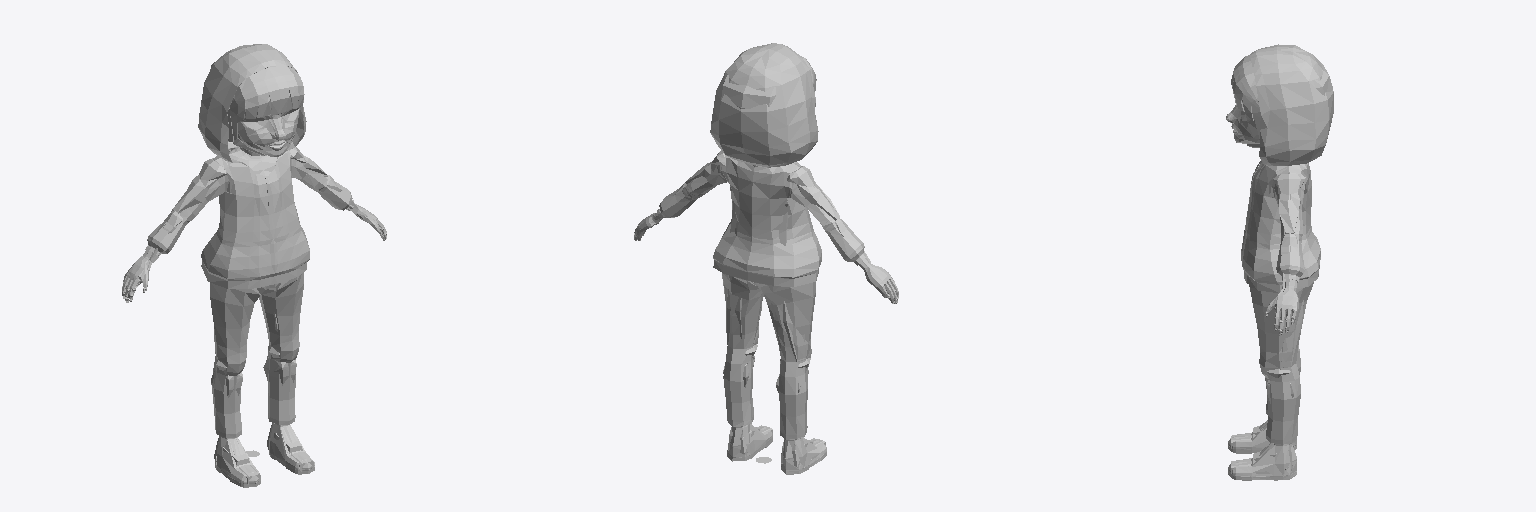
Rendered from temp_char.obj.
3 views of the same model, side by side, from view 1: azimuth 30°, elevation 25°; view 2: azimuth 150°, elevation 25°; view 3: azimuth 270°, elevation 25° (orthographic).
Visible parts, largest first — view 1: Object005, Bip001_R_UpperArm; view 2: Object005, Bip001_R_UpperArm, Bip001_Head; view 3: Object005, Bip001_L_UpperArm.
Part boxes in pixels (x1,y1,x2,y2): Object005: (122,44,386,487); Bip001_R_UpperArm: (173,158,226,213); Object005: (634,43,898,474); Bip001_R_UpperArm: (787,166,839,220); Bip001_Head: (722,75,775,108); Object005: (1226,44,1333,480); Bip001_L_UpperArm: (1273,173,1305,233).
Bounding box in the file's own units: 20.88 × 31.43 × 7.46.